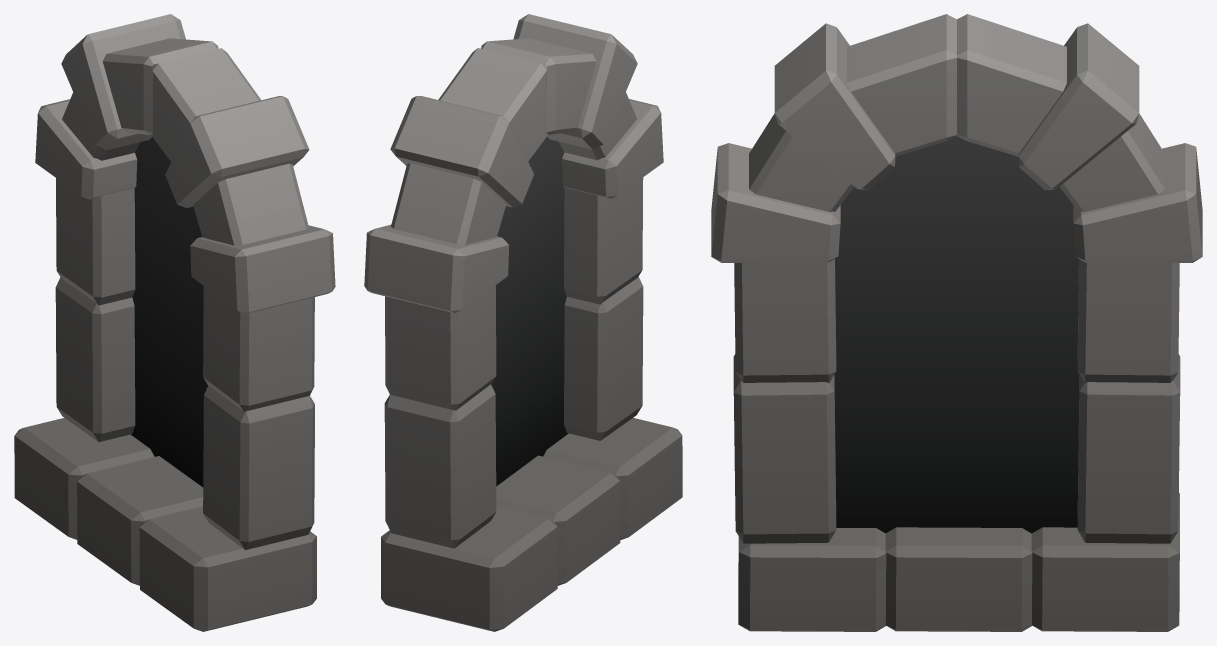
Rendered from dungeonkit_decor_window.fbx.
3 renders of one model, left to right at view 1: azimuth 30°, elevation 25°; view 2: azimuth 150°, elevation 25°; view 3: azimuth 270°, elevation 25°, orthographic. The views are drawn at different scales.
Parts seen in each view (by area): view 1: Cube.012; view 2: Cube.012; view 3: Cube.012.
Part boxes in pixels (bbox=[...]): Cube.012: bbox=[14, 14, 335, 631]; Cube.012: bbox=[364, 14, 682, 631]; Cube.012: bbox=[711, 14, 1202, 631].
Size of the model in its own units: 60.48 by 222 by 170.
